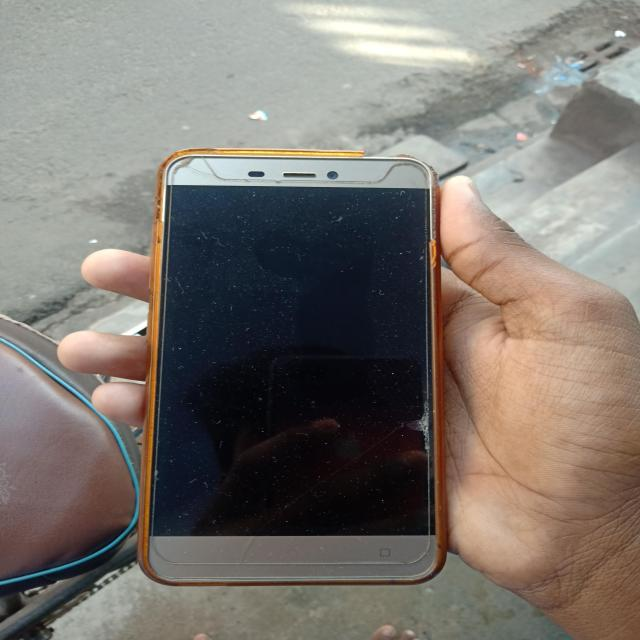mobile: (66, 112, 501, 640)
